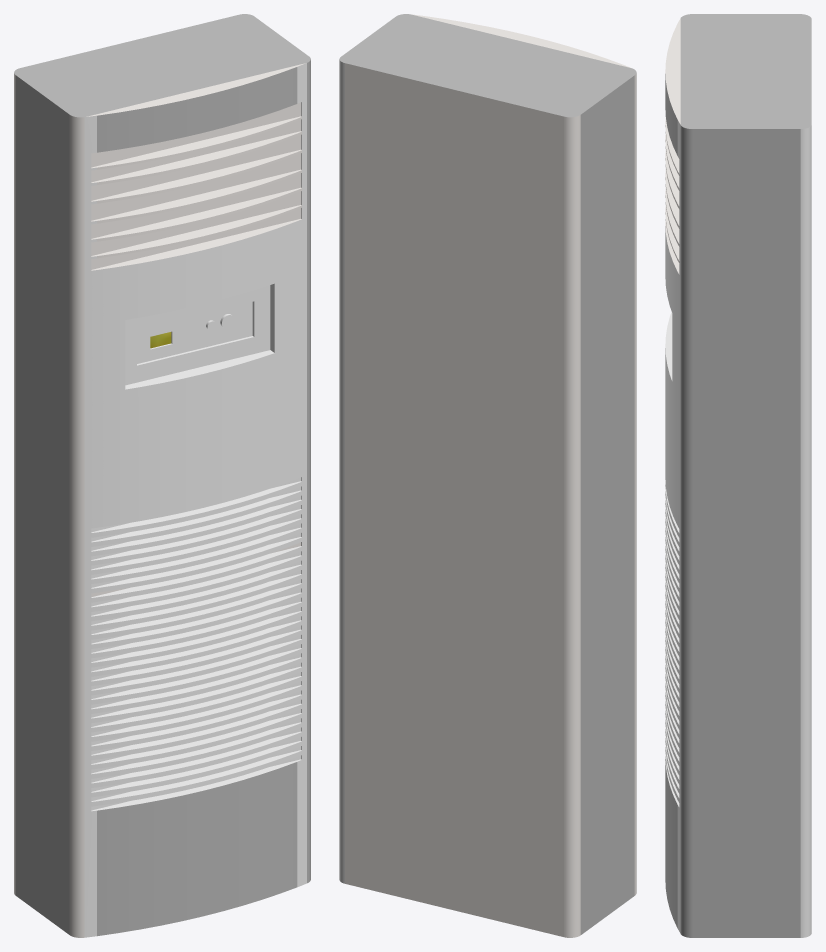
The model's file is AC_stand.glb.
3 views of the same model, side by side, from view 1: azimuth 30°, elevation 25°; view 2: azimuth 150°, elevation 25°; view 3: azimuth 270°, elevation 25° (orthographic).
Visible parts, largest first — view 1: Object_3, Object_2, Object_4; view 2: Object_4, Object_2, Object_3; view 3: Object_2, Object_3, Object_4.
Part boxes in pixels (bbox=[...]): Object_3: bbox=[84, 63, 306, 937]; Object_2: bbox=[14, 14, 310, 936]; Object_4: bbox=[14, 63, 305, 937]; Object_4: bbox=[345, 14, 636, 937]; Object_2: bbox=[339, 14, 636, 934]; Object_3: bbox=[339, 59, 344, 883]; Object_2: bbox=[665, 14, 811, 937]; Object_3: bbox=[665, 120, 811, 937]; Object_4: bbox=[665, 18, 680, 274].
Bounding box in the file's own units: 0.6175 × 2.02 × 0.3316.
4 materials, 1 textured.
